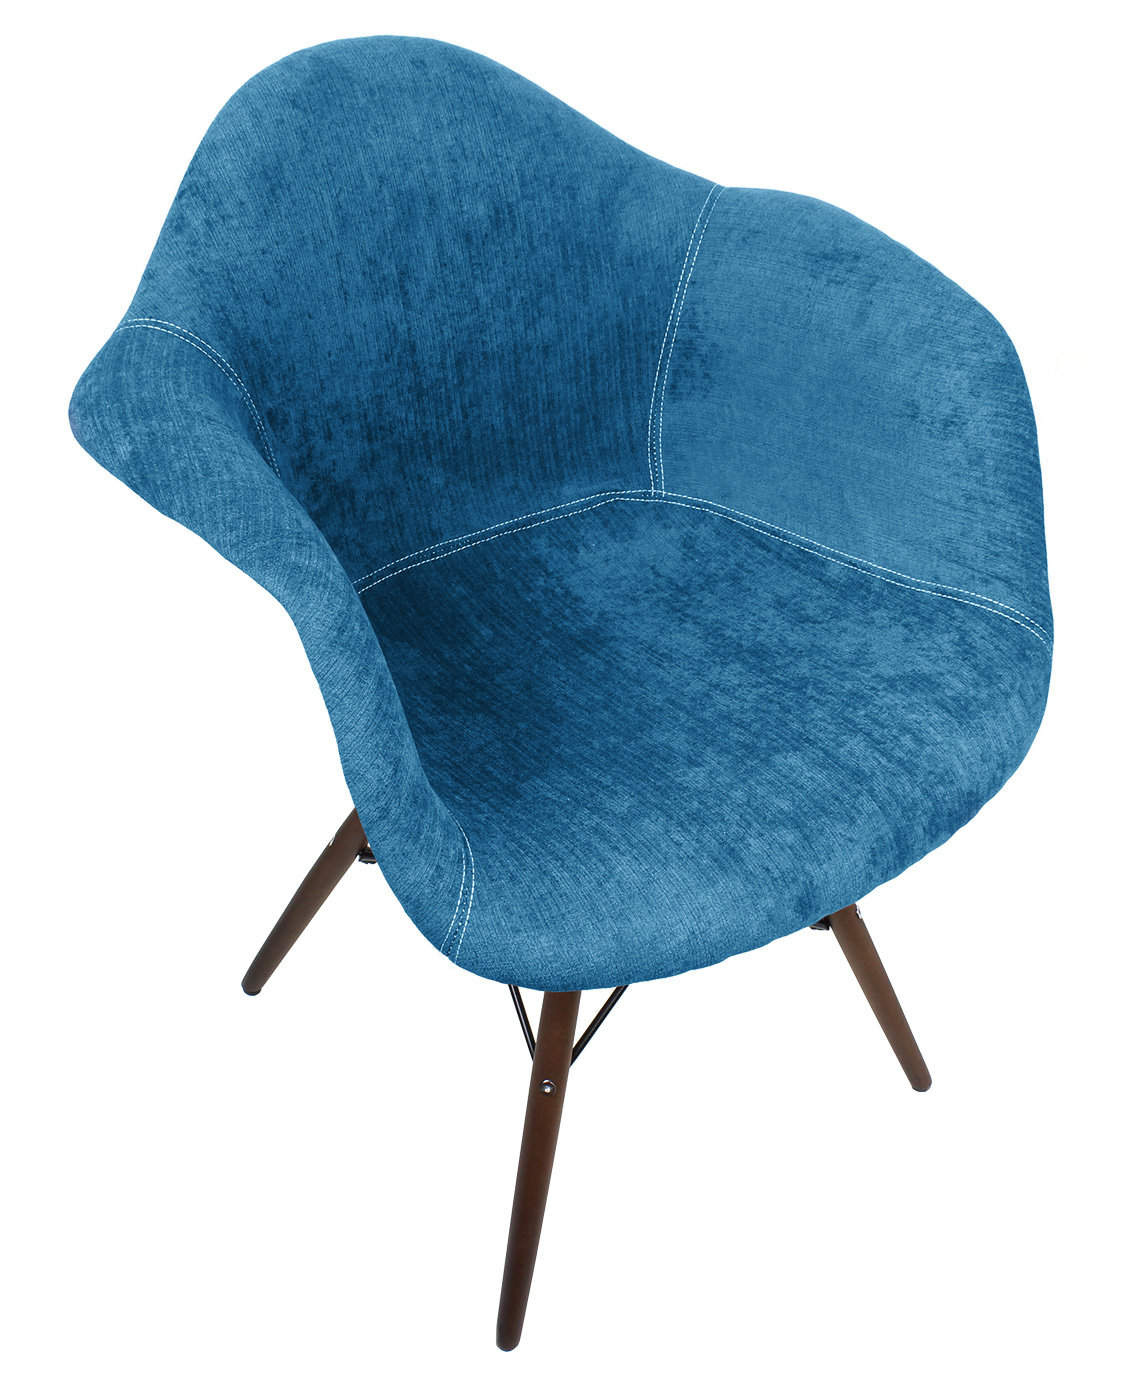chairs: (65, 30, 1064, 1353)
